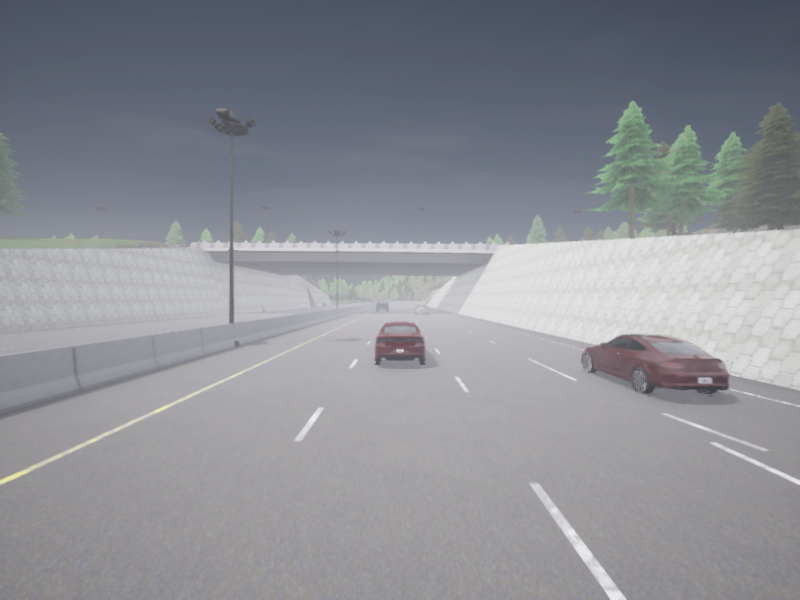vehicle: (582, 333, 728, 394), (375, 322, 425, 363), (376, 301, 388, 311), (414, 304, 427, 313)
